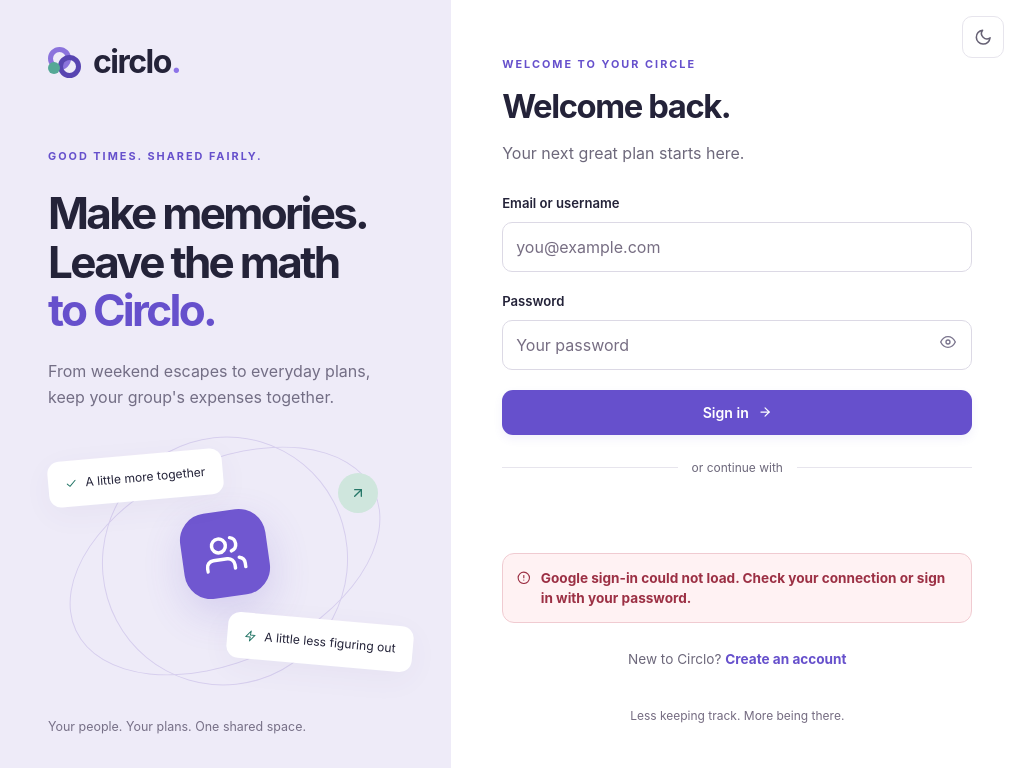
Test: authentication and errors › shows the exact login failure and preserves input
The width and height of the screenshot is (1024, 768).
Type "jamie" into the field labelled "Email or username". click: [737, 247]
box: x1=502 y1=222 x2=972 y2=272
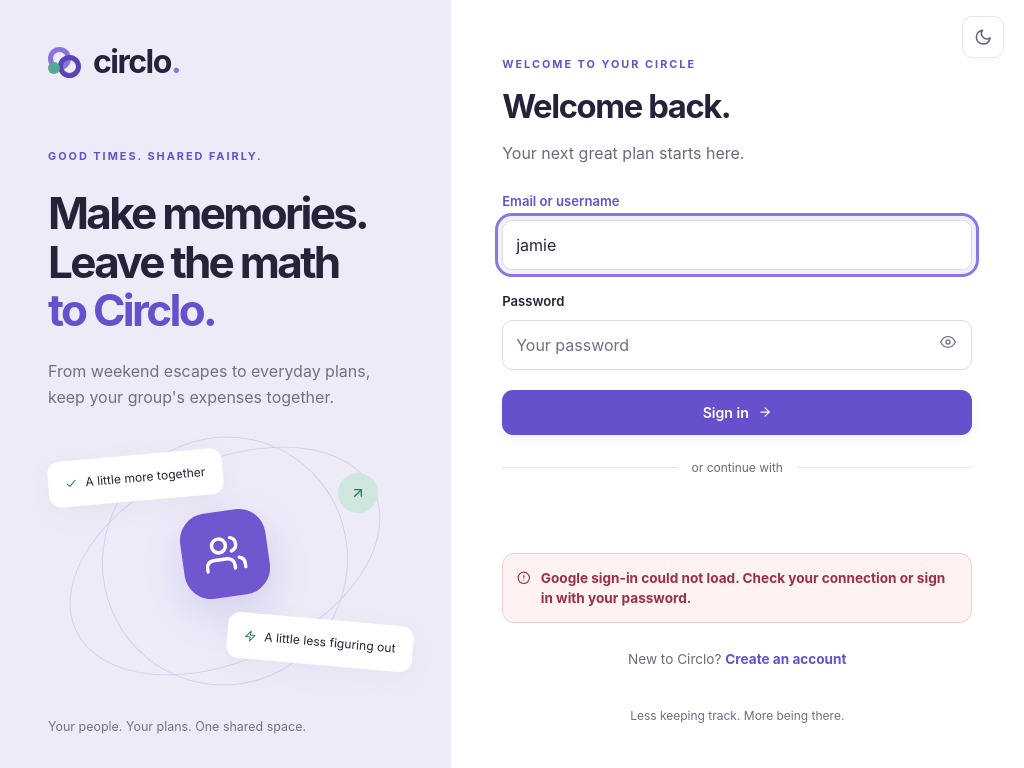
Type "wrong" into the password field labelled "Password". click: [737, 344]
box: x1=502 y1=319 x2=972 y2=369
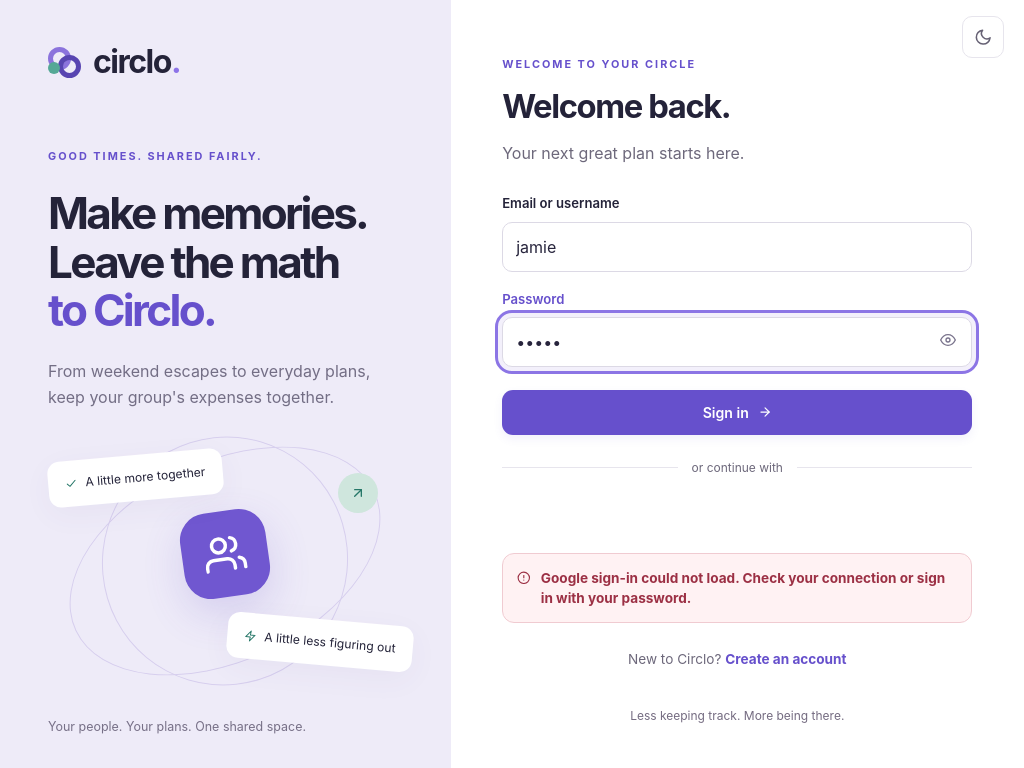
Click the button "Sign in". click: [737, 412]
box: x1=502 y1=389 x2=972 y2=434
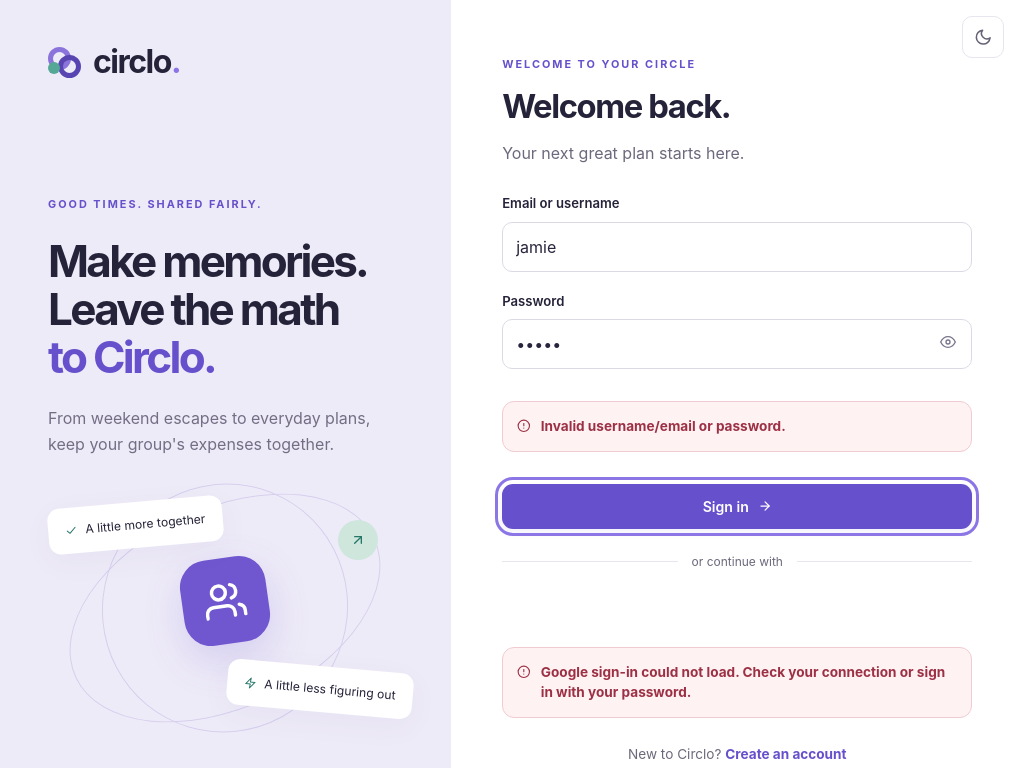
Now the text "Invalid username/email or password." is shown, box x1=541 y1=418 x2=786 y2=434
